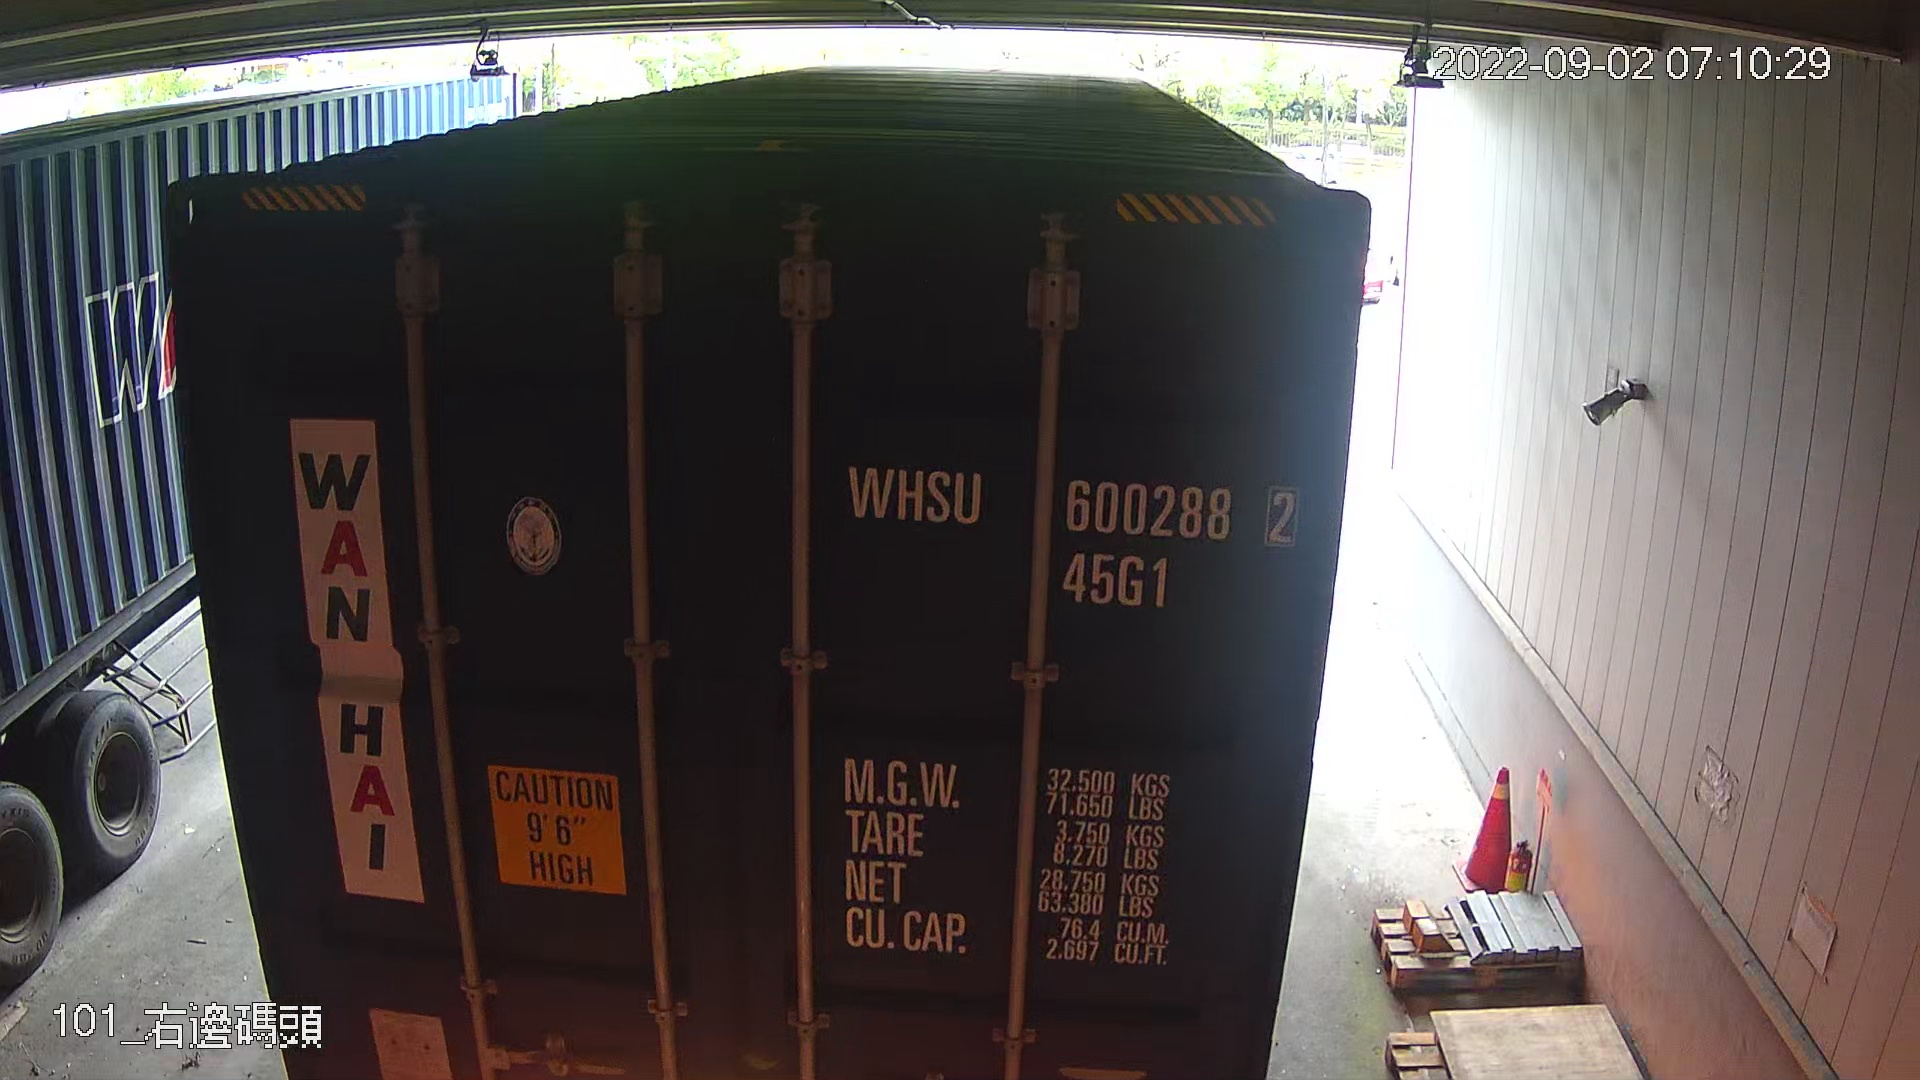container: (825, 436, 1309, 618)
